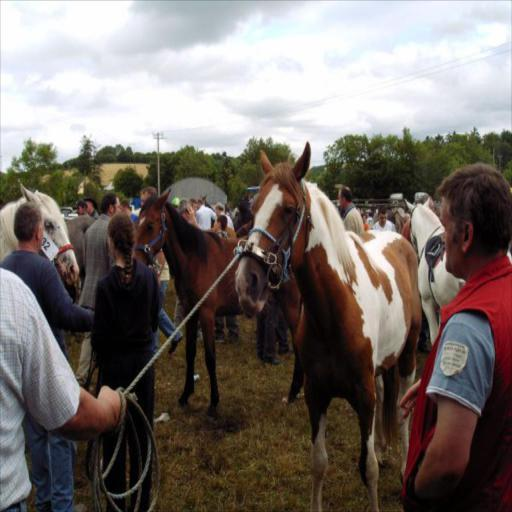horse: (234, 139, 424, 511), (128, 186, 252, 418), (402, 197, 470, 345), (1, 178, 81, 294)
